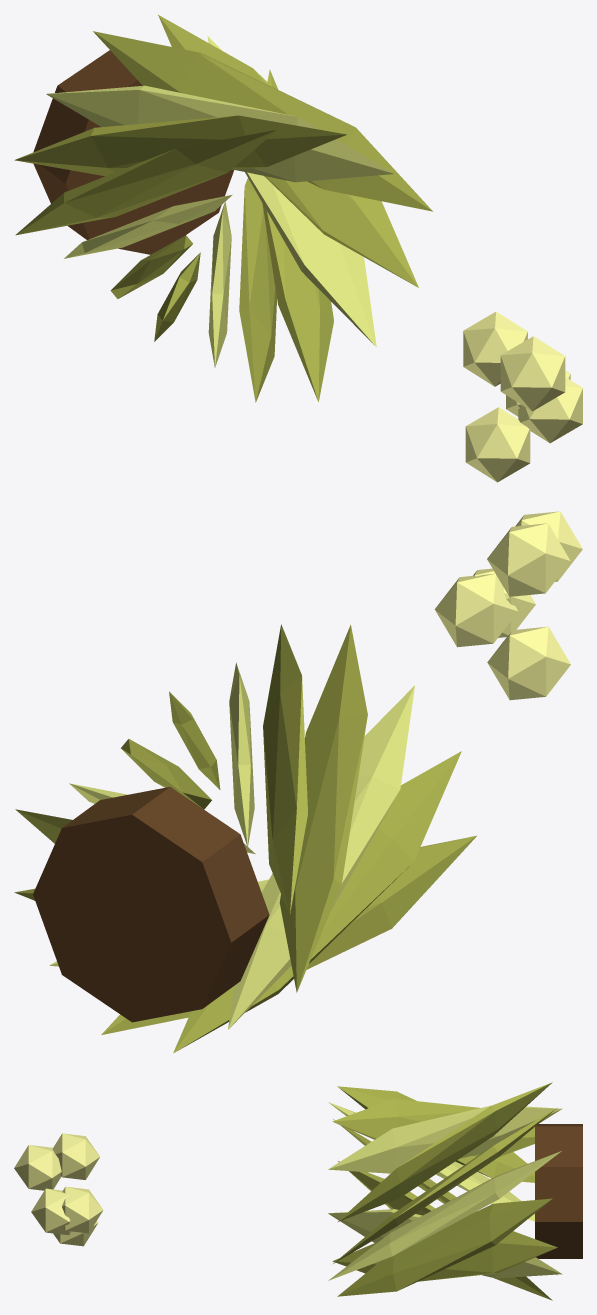
File: 4_mature.obj
3 renders of one model, top to bottom at view 1: azimuth 30°, elevation 25°; view 2: azimuth 150°, elevation 25°; view 3: azimuth 270°, elevation 25°, orthographic. The views are drawn at different scales.
Visible parts, largest first — view 1: lantadyme_4_mature; view 2: lantadyme_4_mature; view 3: lantadyme_4_mature.
Part boxes in pixels (x1,y1,x2,y2): lantadyme_4_mature: (14, 15, 582, 482); lantadyme_4_mature: (14, 511, 582, 1053); lantadyme_4_mature: (14, 1082, 582, 1300).
Size of the model in its own units: 0.1808 by 0.1808 by 0.4745.
